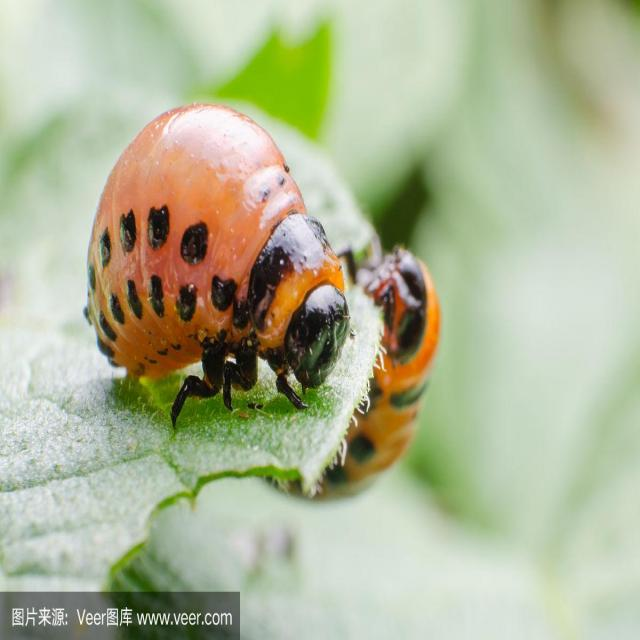ShuCaiHuaBanChong-Larva-: (48, 87, 351, 417), (324, 236, 448, 516)
